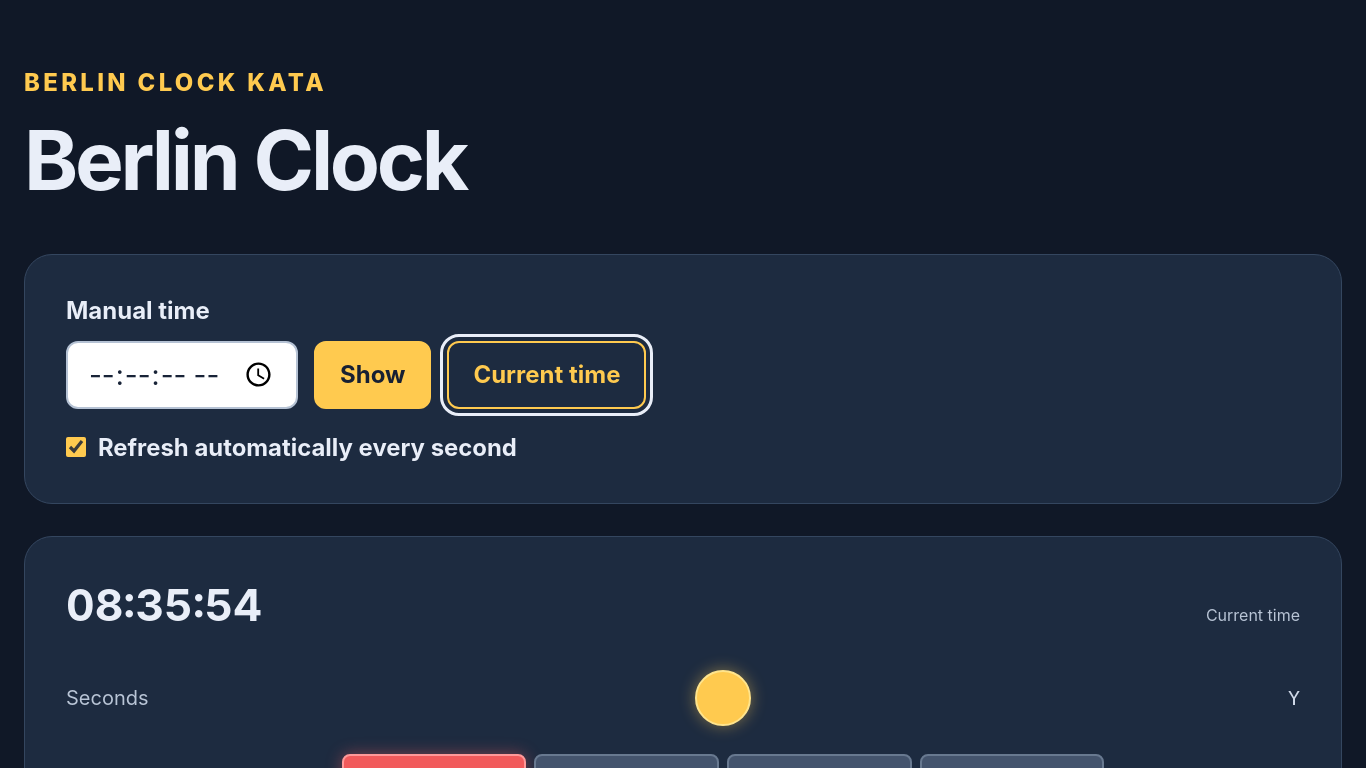
Berlin Clock interactions › converts a manually selected time and stops current-time refresh
Type "23:12:47" into the time field labelled "Manual time".
click(182, 375); type("23:12:47")  # box [66,341,298,409]
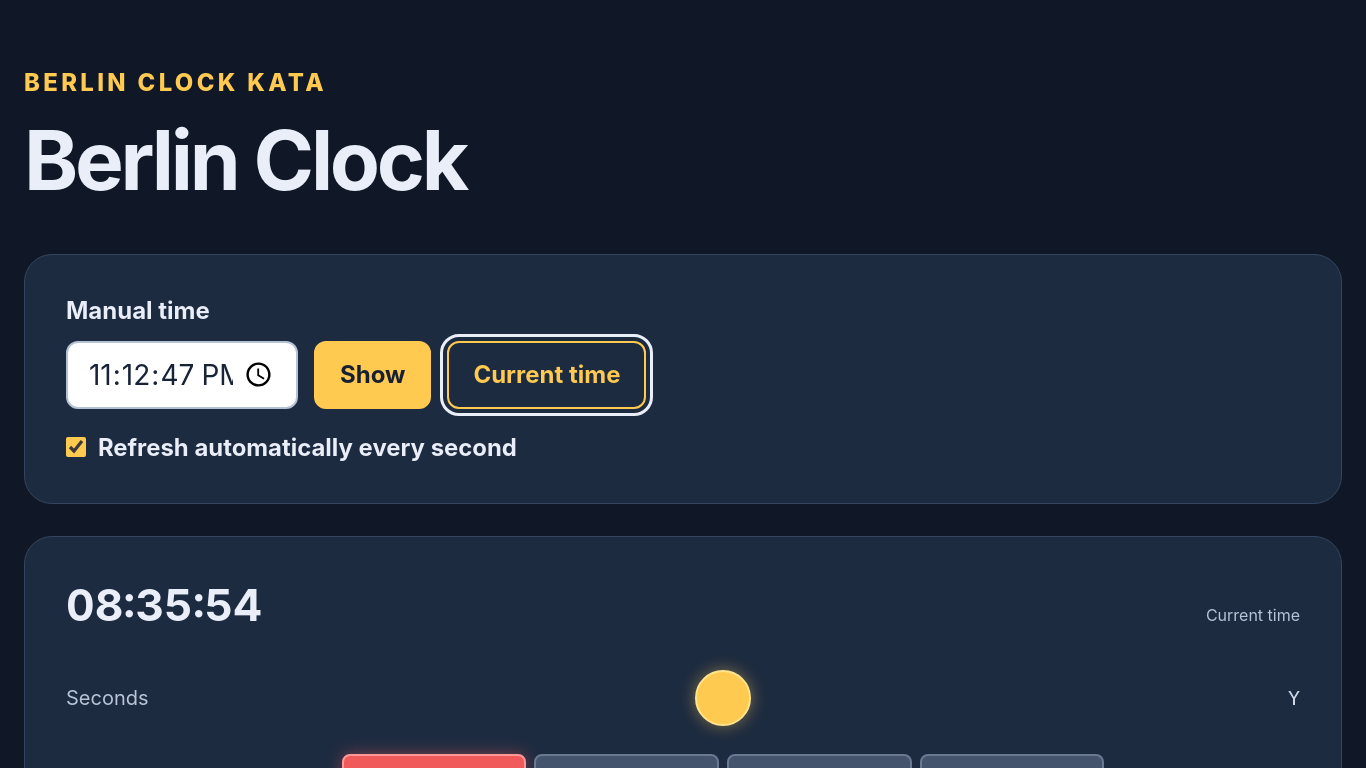
Click the button "Show".
click(373, 375)  # box [314,341,432,409]
Wait 3000 ms
(page scrolled)
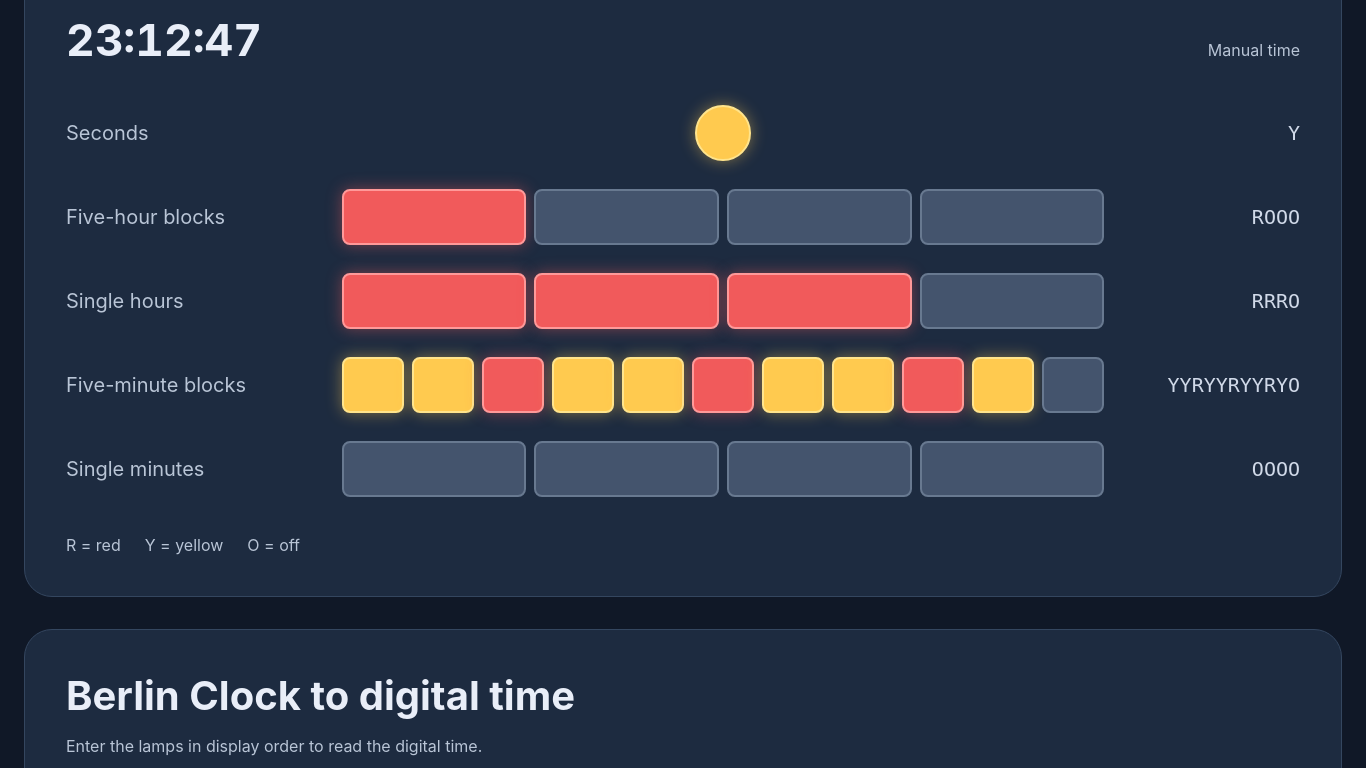
expect the text "YYRYYRYYRYO" is shown: met, box [1168,373,1300,397]
expect the heading "23:12:47" is shown: met, box [66,13,262,67]
